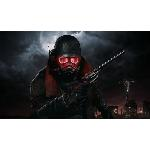Pistol: (78, 48, 134, 88)
